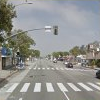crosswalk: (7, 82, 99, 92), (28, 67, 76, 69)
